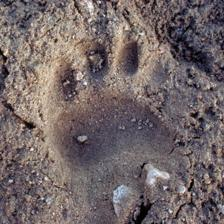bear: (44, 31, 190, 174)
